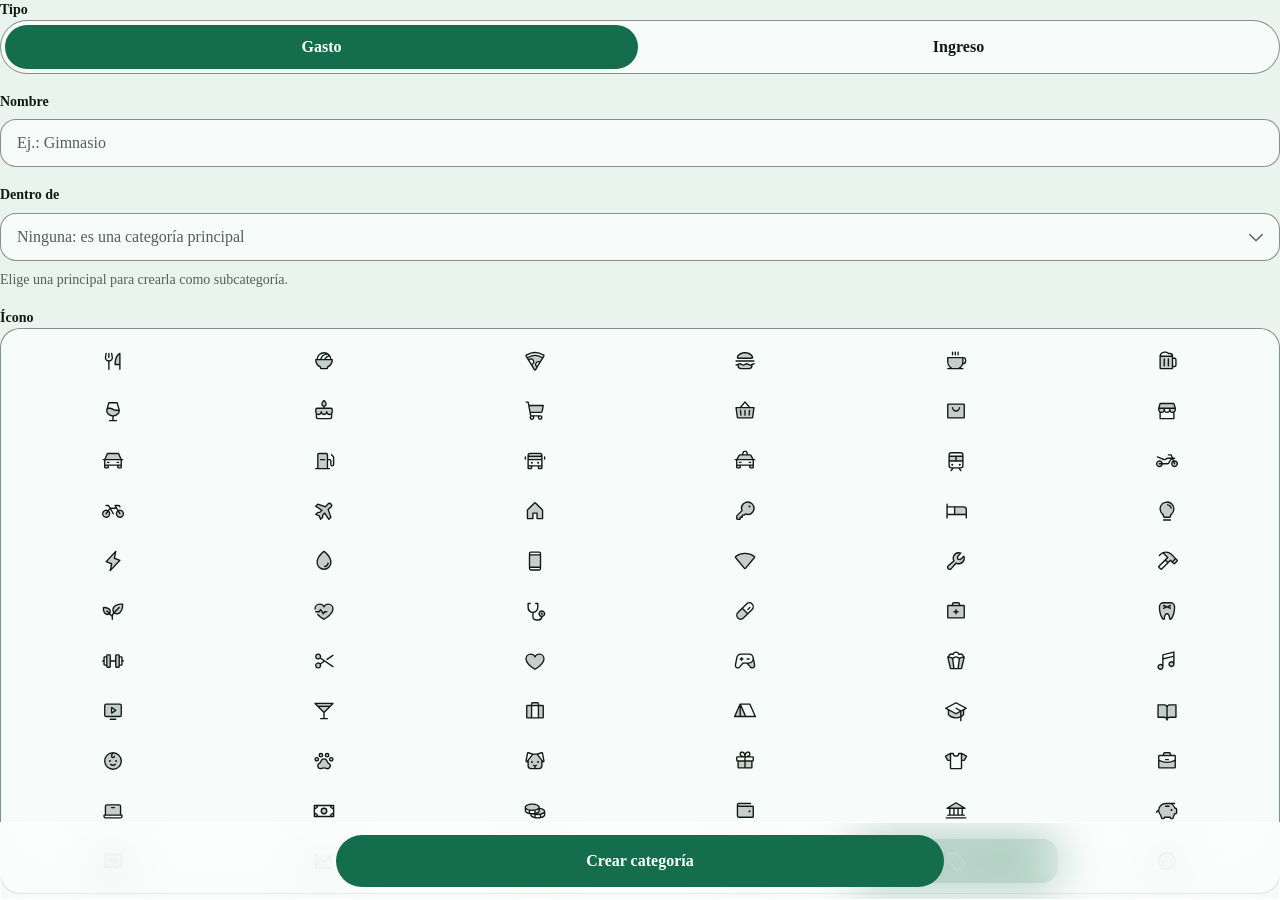
what it checks before sending › asks for a name and sends nothing
This screenshot has width=1280, height=900.
Click the button "Crear categoría" at (640, 861), box [336,835,944,887]
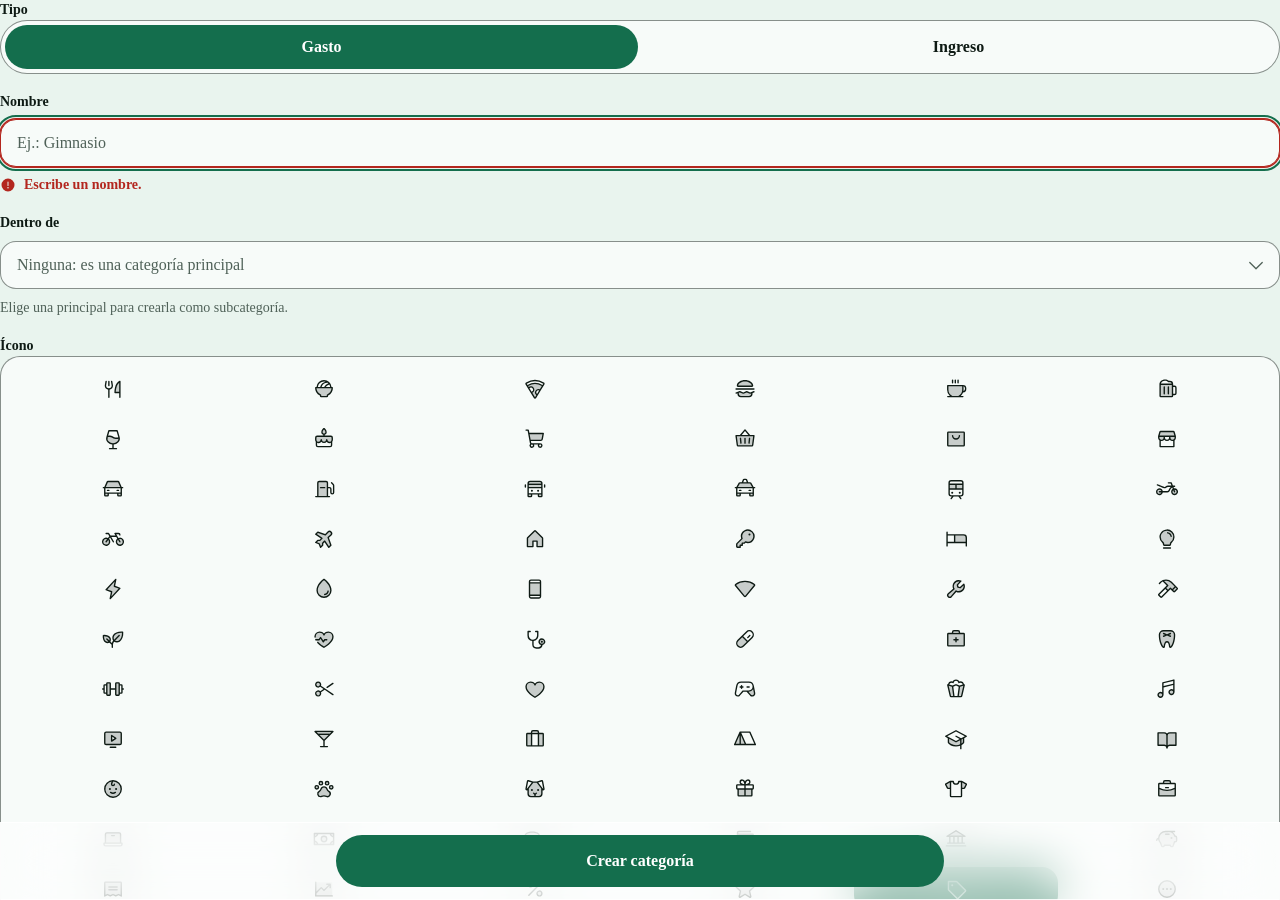
Check: the text "Escribe un nombre." is shown, box [24,175,142,195]
